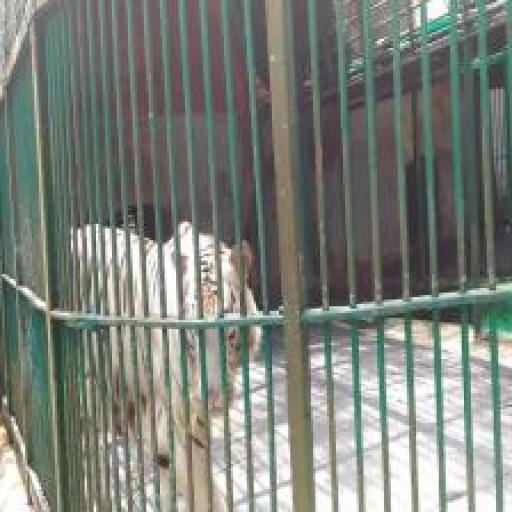Tiger: (69, 210, 265, 510), (69, 210, 264, 511)
